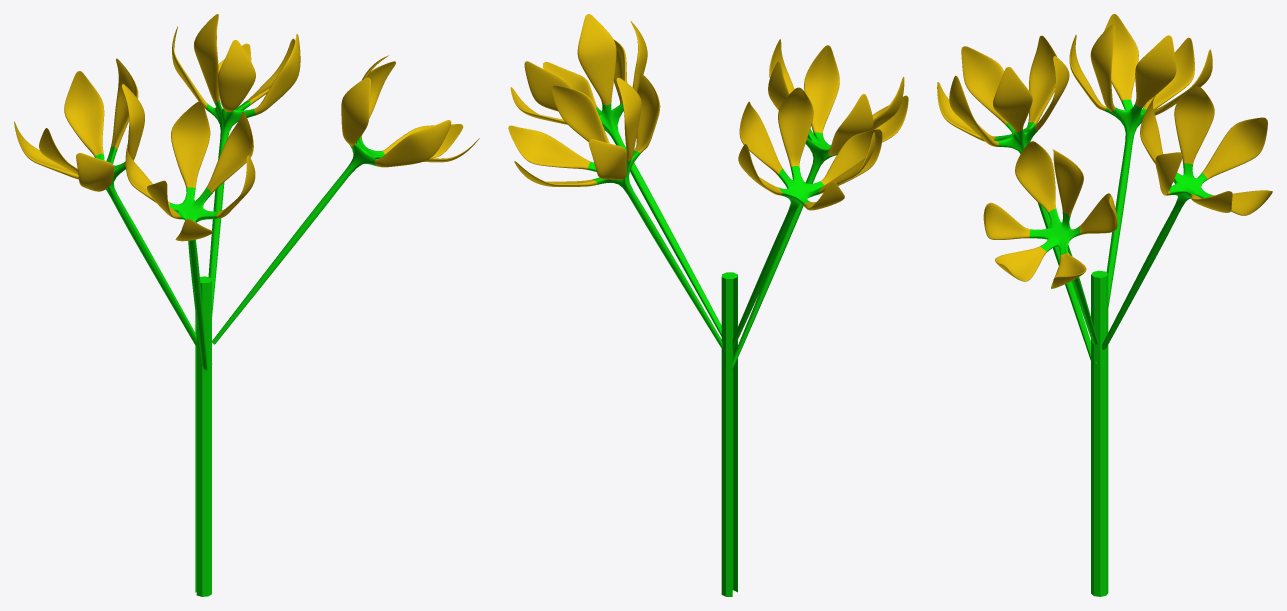
File: yelllowflower.fbx
The picture shows the model from 3 angles, left to right: view 1: azimuth 30°, elevation 25°; view 2: azimuth 150°, elevation 25°; view 3: azimuth 270°, elevation 25°; orthographic projection.
Visible parts, largest first — view 1: yellowflower2, yellowflower, yellowflower1, yellowflower3, sten; view 2: yellowflower1, yellowflower2, yellowflower3, yellowflower, sten; view 3: yellowflower1, yellowflower2, yellowflower3, yellowflower, sten.
Part boxes in pixels (x1,y1,x2,y2): yellowflower2: (14, 58, 212, 364); yellowflower: (125, 101, 255, 370); yellowflower1: (172, 14, 300, 316); yellowflower3: (212, 55, 479, 344); sten: (195, 276, 211, 596); yellowflower1: (508, 73, 722, 347); yellowflower2: (732, 87, 882, 350); yellowflower3: (510, 14, 721, 336); yellowflower: (732, 39, 908, 369); sten: (721, 272, 737, 596); yellowflower1: (1102, 86, 1272, 349); yellowflower2: (1069, 14, 1212, 363); yellowflower3: (983, 141, 1117, 344); yellowflower: (937, 35, 1090, 360); sten: (1091, 270, 1108, 596).
Size of the model in its own units: 114 by 148 by 83.87.
